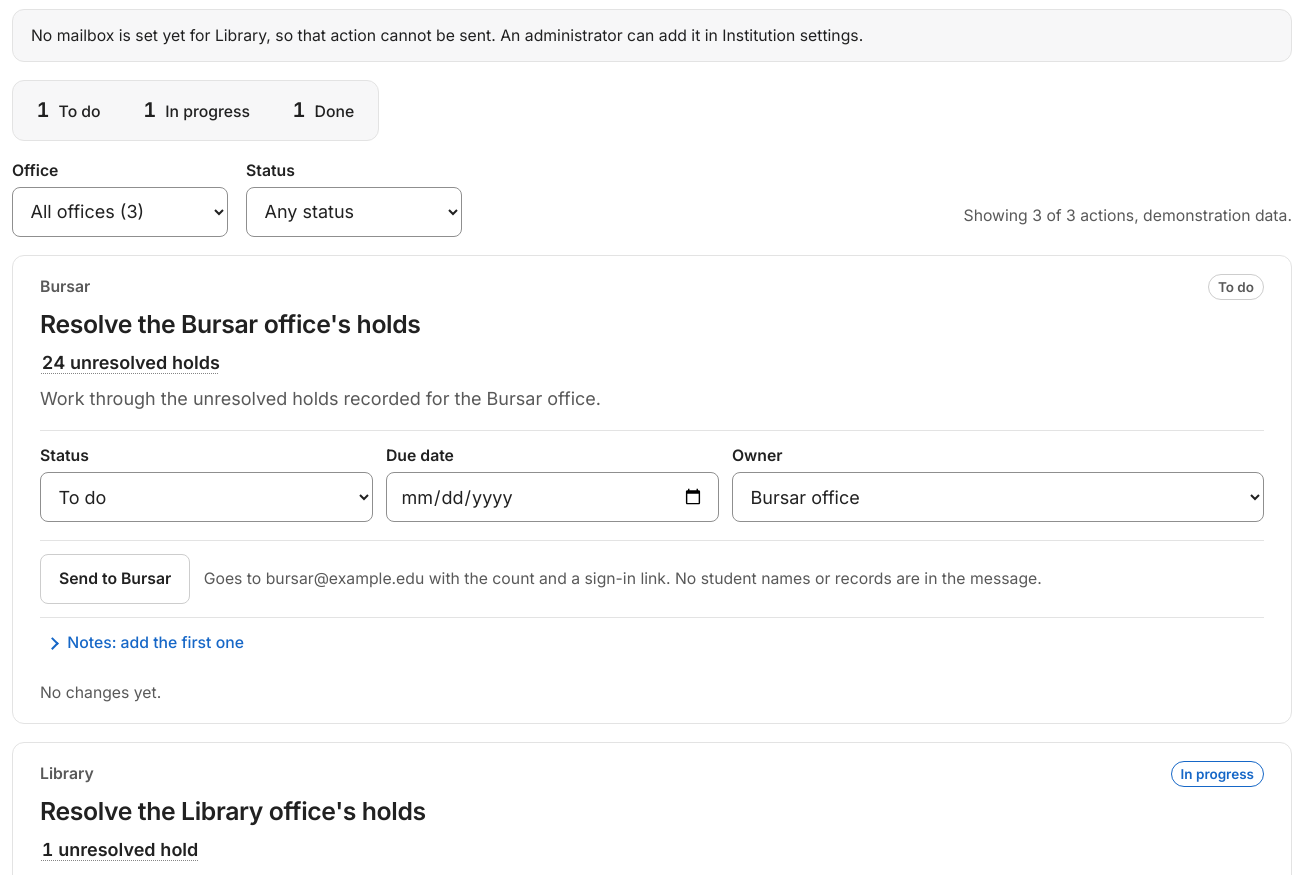
Staff actions page › sends to the office mailbox, and shows who sent it
The image size is (1304, 875).
Check: the element "Resolve the Bursar office's holds" shows "Goes to bursar@example.edu with the count and a sign-in link", box [12,255,1292,724]
Click the button "Send to Bursar" at (115, 579), box [40,554,190,604]
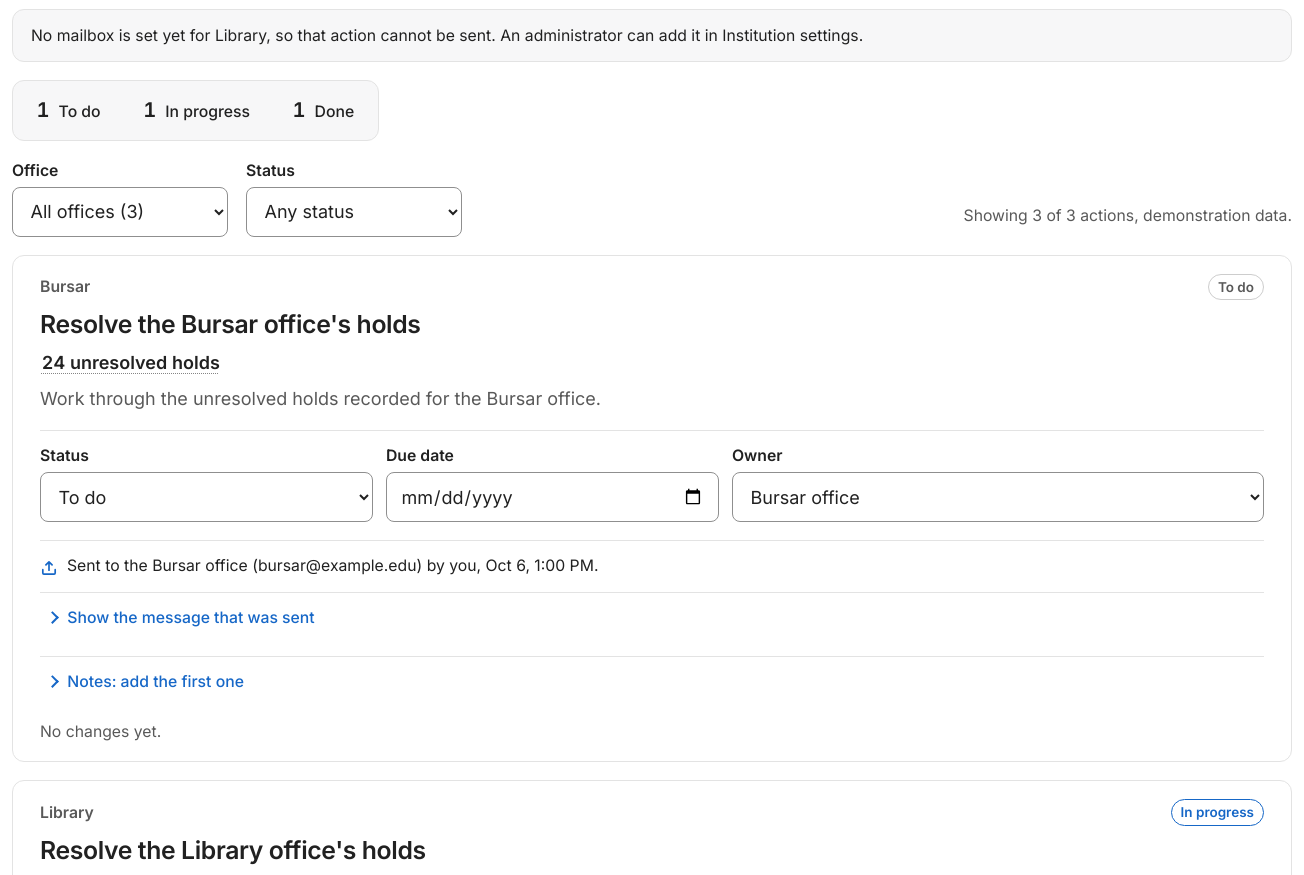
Check: the text "Sent to the Bursar office (bursar@example.edu) by you" is shown, box [67,554,598,578]
Check: the button "Send to Bursar" is gone
